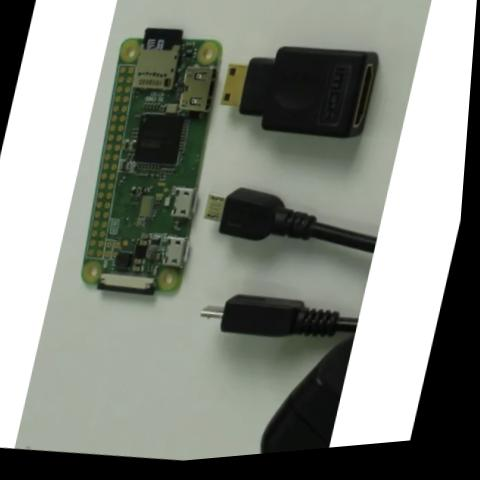Raspberry-Pi-Zero-W: (65, 27, 239, 311)
